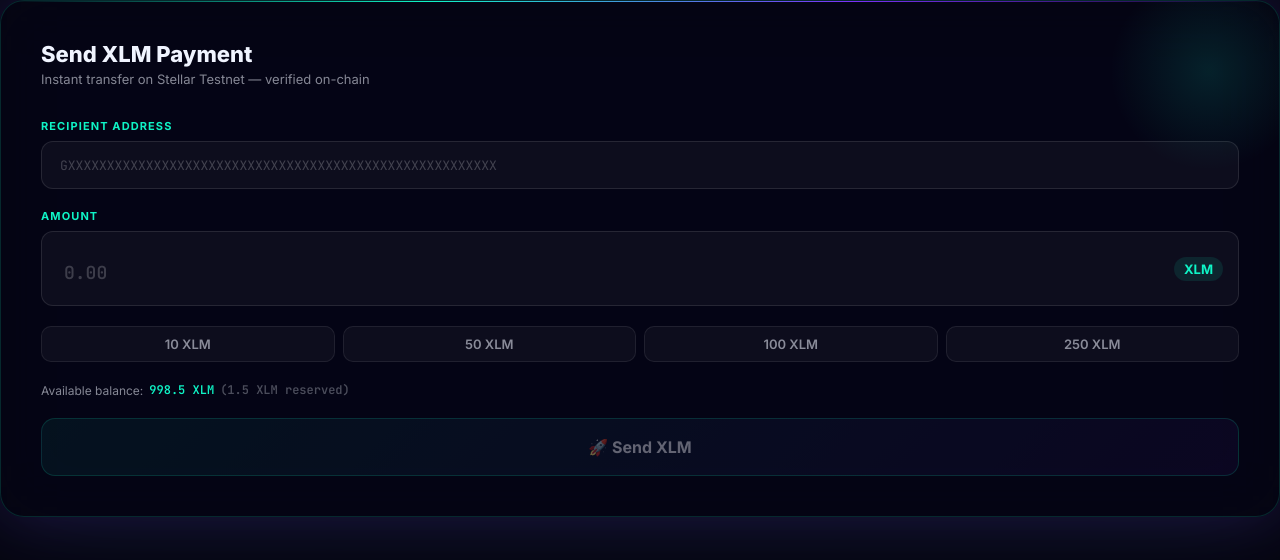
Test: Test 10 – Quick-amount buttons › clicking '10 XLM' sets amount field to 10
The image size is (1280, 560).
Step 1. Click the button "10 XLM" → (188, 344), box x1=41 y1=326 x2=334 y2=362
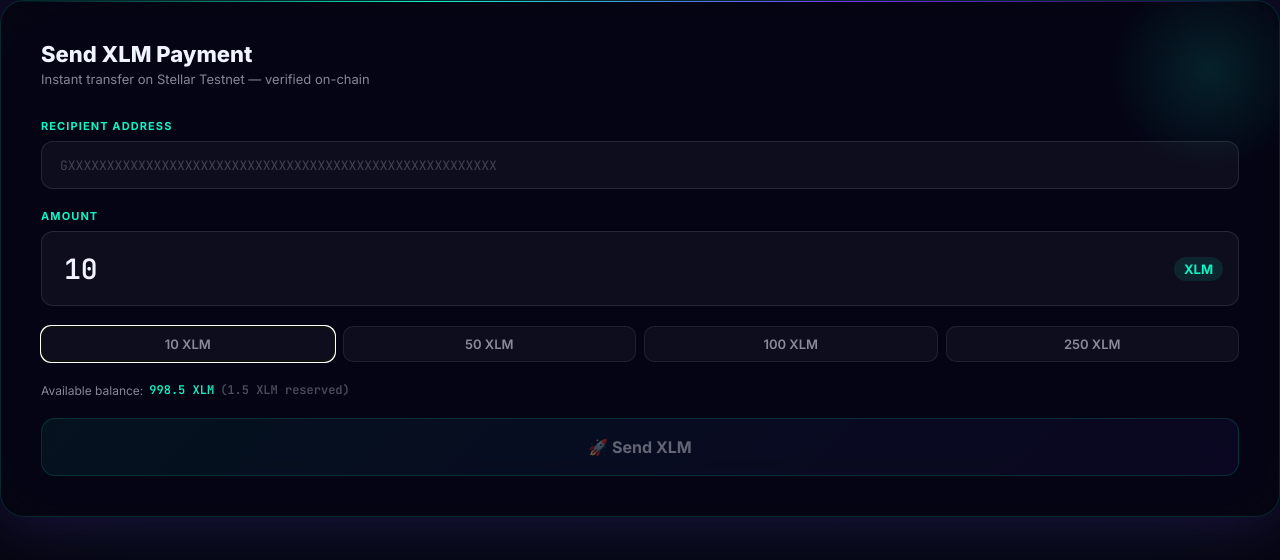
Now the number field with placeholder "0.00" holds "10", box x1=41 y1=231 x2=1239 y2=306
